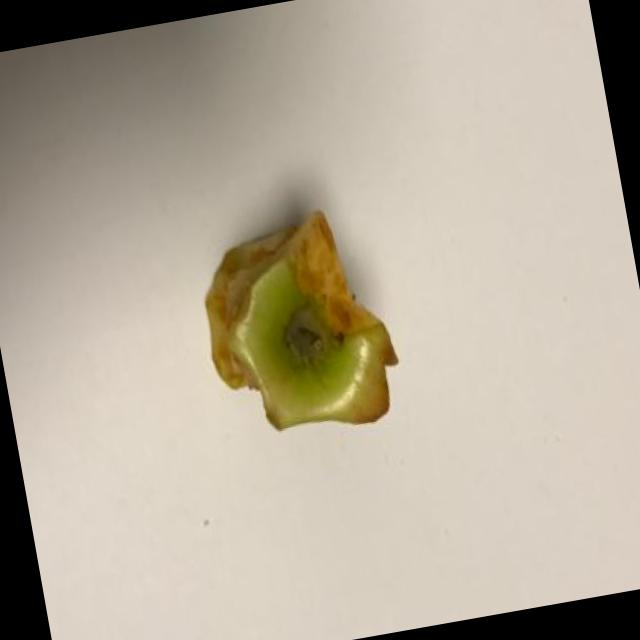thuc_an_thua: (202, 209, 398, 430)
